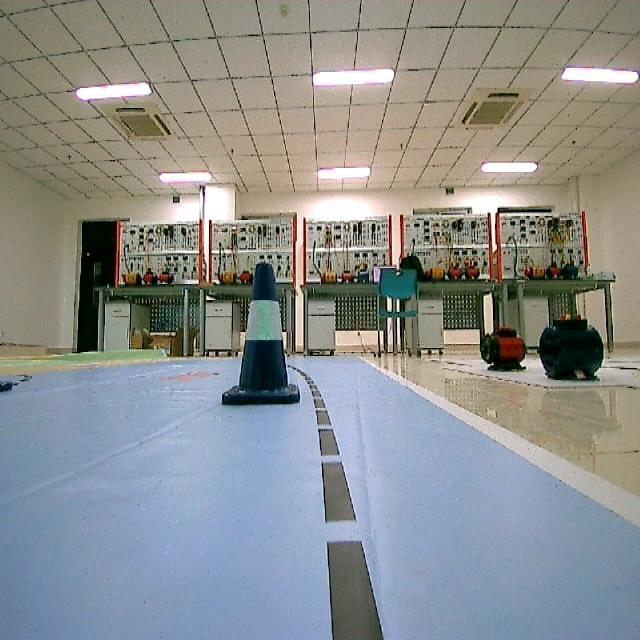obstacle: (212, 256, 303, 410)
